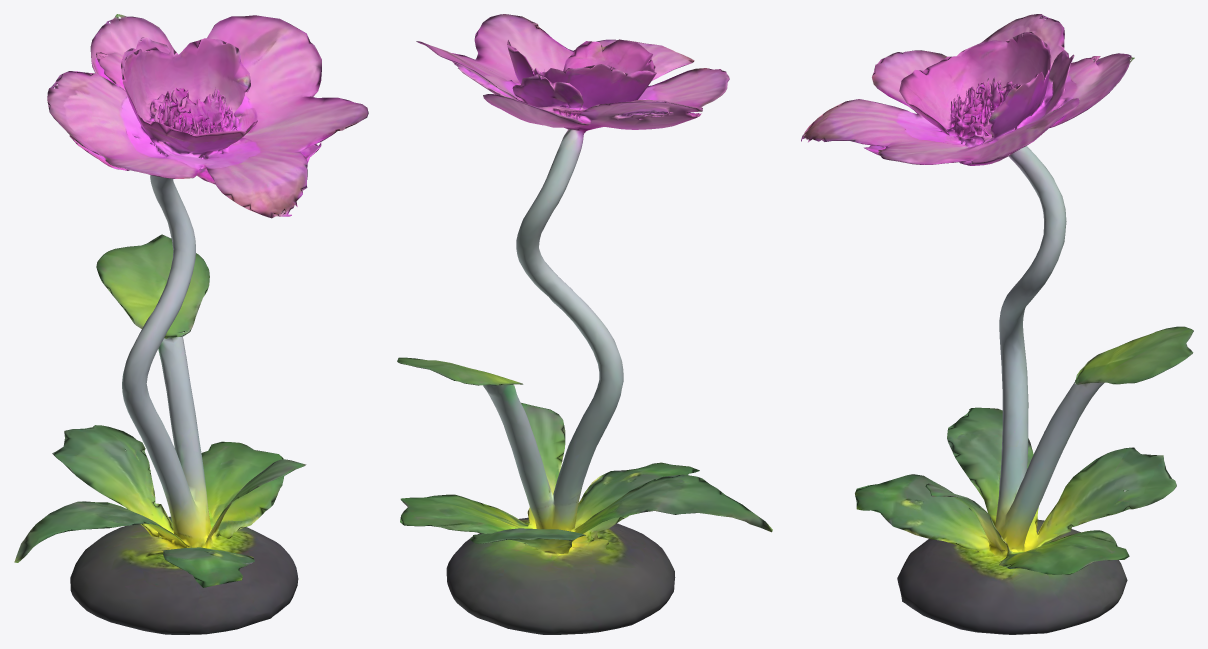
File: plant4.glb
3 views of the same model, side by side, from view 1: azimuth 30°, elevation 25°; view 2: azimuth 150°, elevation 25°; view 3: azimuth 270°, elevation 25° (orthographic).
Size of the model in its own units: 1.15 by 1.84 by 1.22.
Materials: 1 (1 with a texture image).
